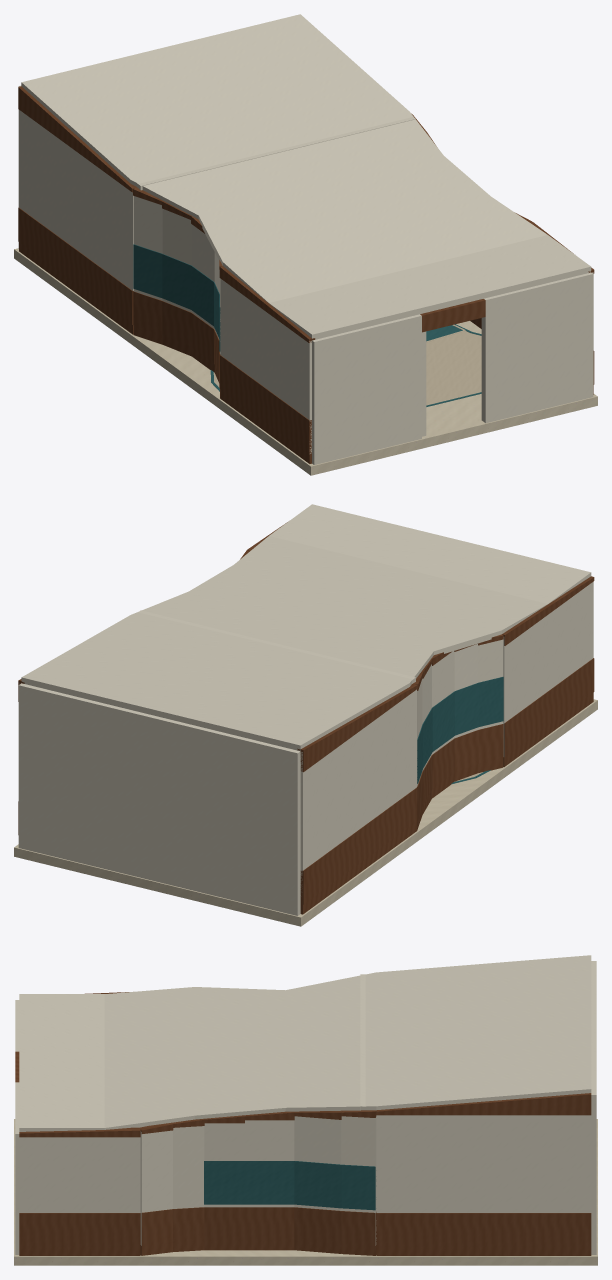
Rendered from shell.glb.
The picture shows the model from 3 angles, top to bottom: view 1: azimuth 30°, elevation 25°; view 2: azimuth 150°, elevation 25°; view 3: azimuth 270°, elevation 25°; orthographic projection.
Parts seen in each view (by area): view 1: SUI_Runtime_ivory_enamel, SUI_Runtime_warm_walnut, SUI_Runtime_warm_stone, SUI_Runtime_teal_weave, SUI_Runtime_oatmeal_weave; view 2: SUI_Runtime_ivory_enamel, SUI_Runtime_warm_walnut, SUI_Runtime_warm_stone, SUI_Runtime_teal_weave; view 3: SUI_Runtime_ivory_enamel, SUI_Runtime_warm_walnut, SUI_Runtime_teal_weave, SUI_Runtime_warm_stone.
Part boxes in pixels (bbox=[...]): SUI_Runtime_ivory_enamel: bbox=[18, 14, 593, 464]; SUI_Runtime_warm_walnut: bbox=[18, 86, 594, 463]; SUI_Runtime_warm_stone: bbox=[14, 248, 597, 475]; SUI_Runtime_teal_weave: bbox=[133, 244, 481, 406]; SUI_Runtime_oatmeal_weave: bbox=[213, 324, 481, 405]; SUI_Runtime_ivory_enamel: bbox=[18, 504, 593, 915]; SUI_Runtime_warm_walnut: bbox=[18, 522, 594, 914]; SUI_Runtime_warm_stone: bbox=[14, 699, 597, 926]; SUI_Runtime_teal_weave: bbox=[417, 677, 503, 784]; SUI_Runtime_ivory_enamel: bbox=[15, 955, 596, 1254]; SUI_Runtime_warm_walnut: bbox=[15, 992, 591, 1255]; SUI_Runtime_teal_weave: bbox=[204, 1161, 375, 1210]; SUI_Runtime_warm_stone: bbox=[14, 1119, 597, 1265].
Size of the model in its own units: 7.2 by 4.26 by 12.9.
Materials: 8 (7 with a texture image).
